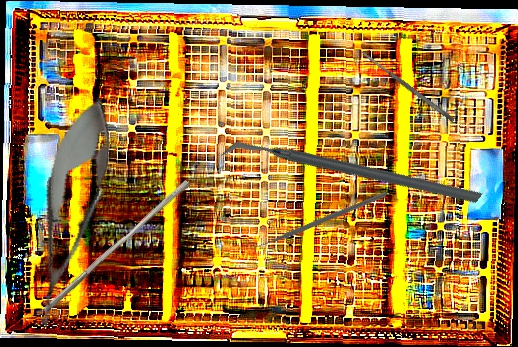Chopper: (221, 55, 483, 294), (247, 143, 388, 292)
Micro Scissor: (15, 90, 125, 335)
Pusher: (42, 174, 191, 320)
Spatula Surgical: (359, 48, 456, 124)
